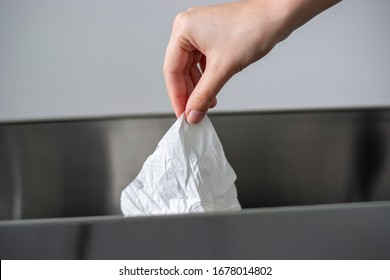Tissue: (119, 108, 244, 214)
